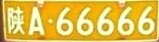A: (29, 7, 44, 35)
